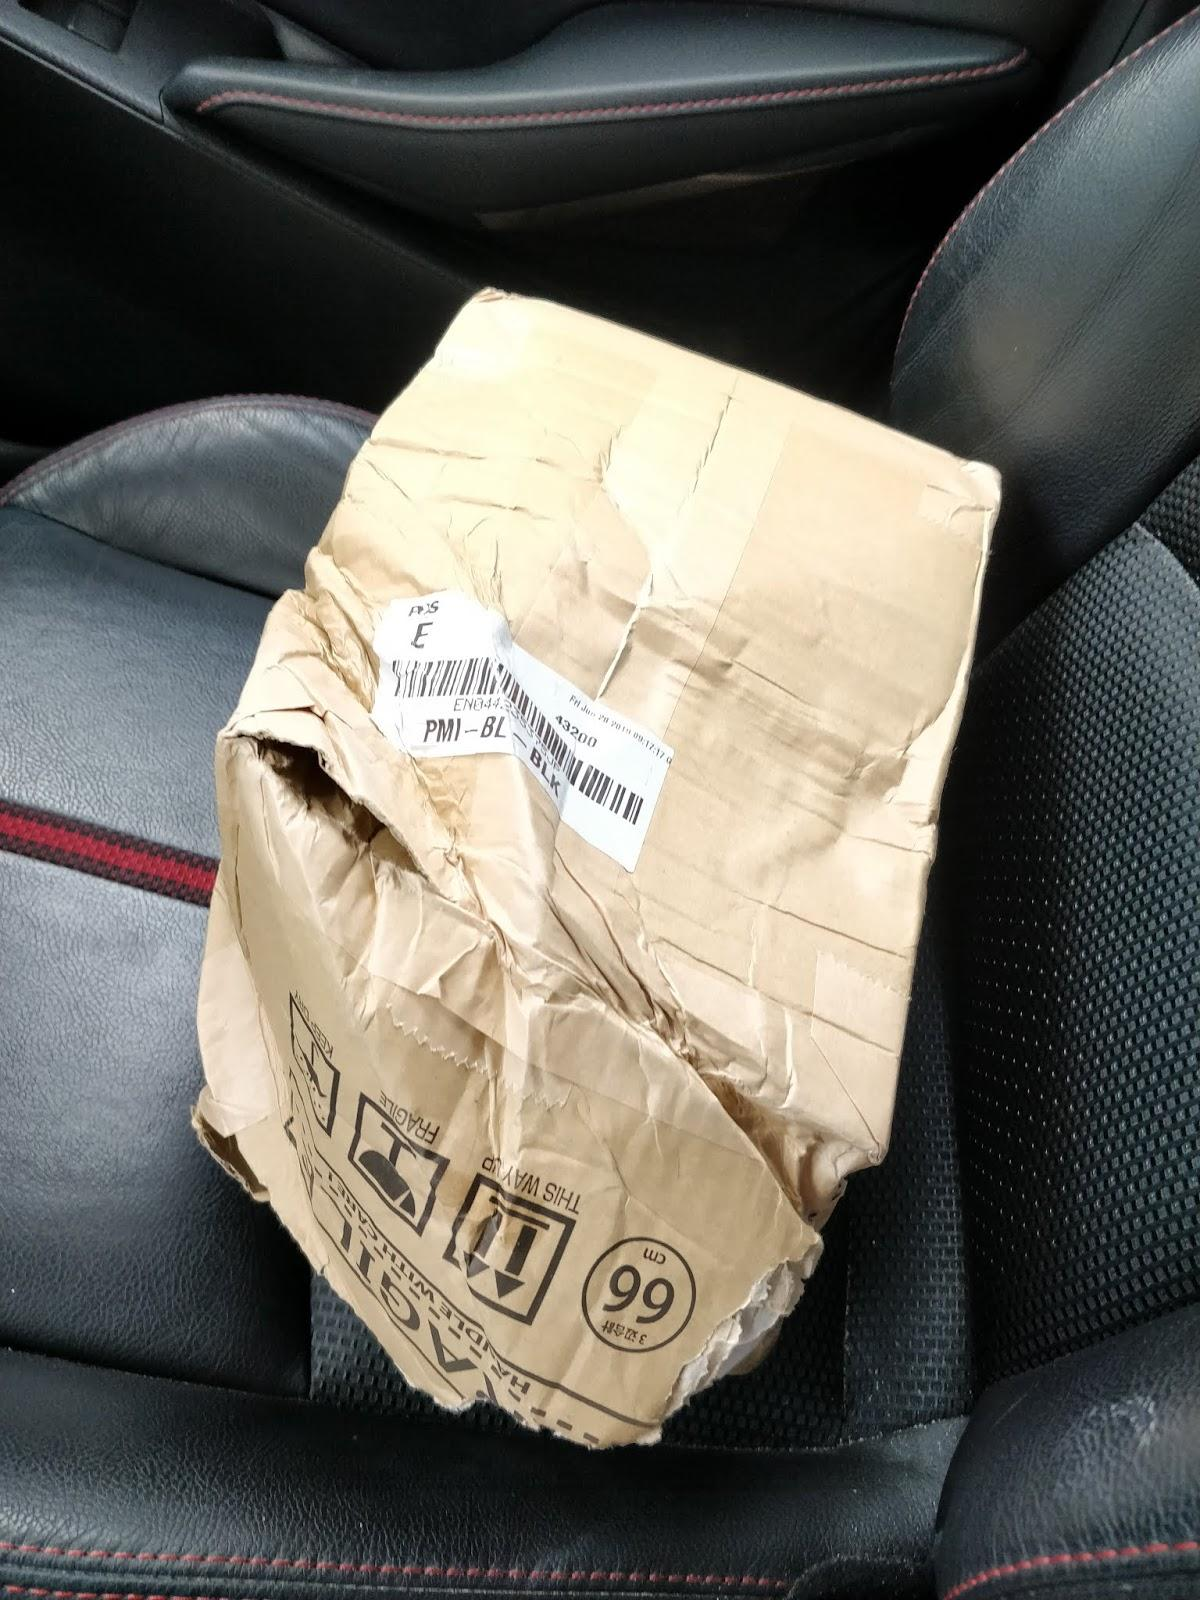damage_box: (187, 282, 1007, 1453)
